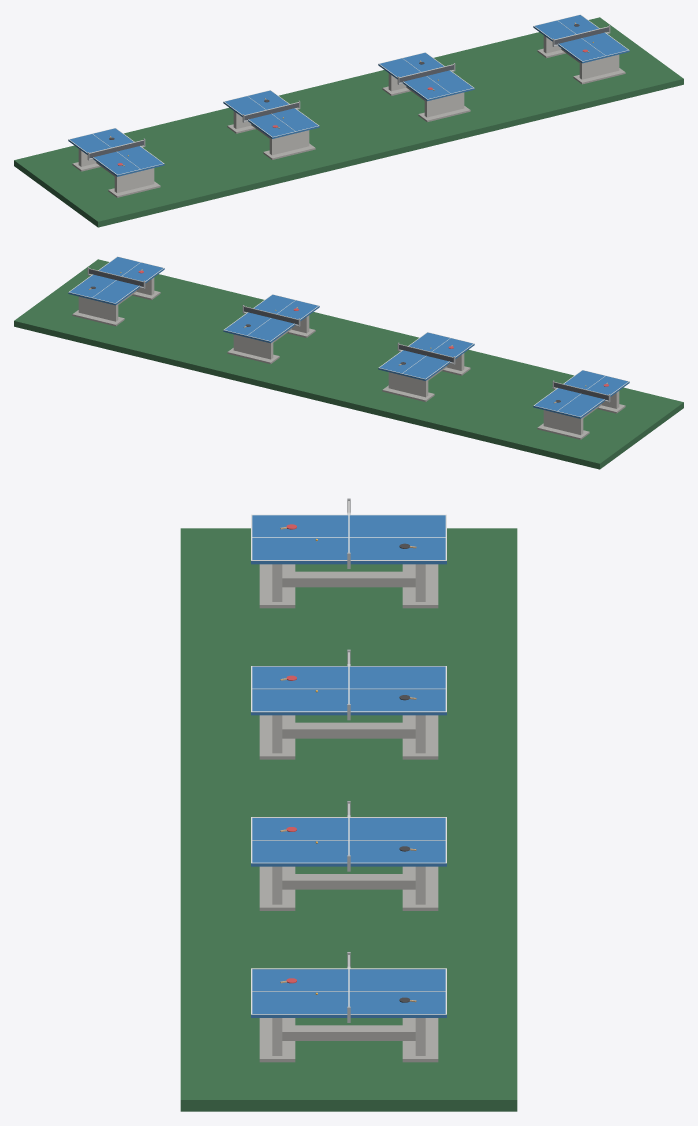
3 views of the same model, one above another, from view 1: azimuth 30°, elevation 25°; view 2: azimuth 150°, elevation 25°; view 3: azimuth 270°, elevation 25° (orthographic). The views are drawn at different scales.
Visible parts, largest first — view 1: base; view 2: base; view 3: base.
Part boxes in pixels (left/top/right/bottom): base: left=14, top=14, right=683, bottom=227; base: left=14, top=256, right=683, bottom=469; base: left=180, top=498, right=517, bottom=1111.
Size of the model in its own units: 18.9 by 1.12 by 4.7.
